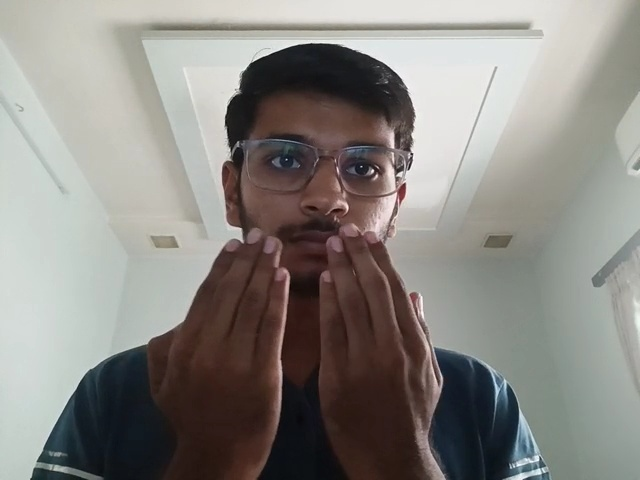Thank You: (142, 224, 455, 460)
